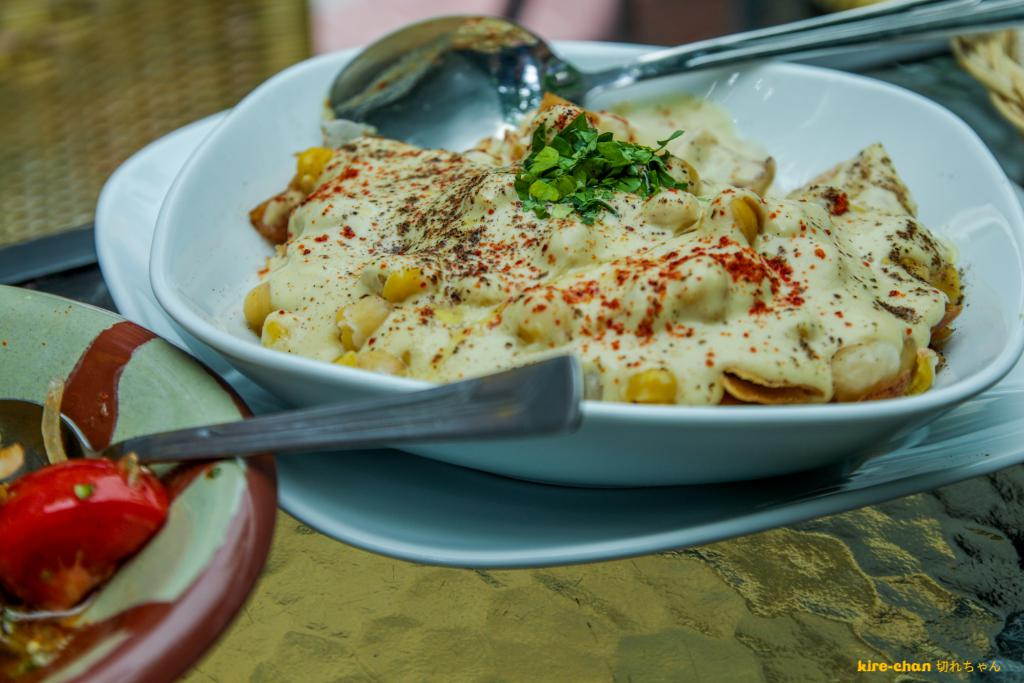Tomato: (0, 453, 174, 614)
